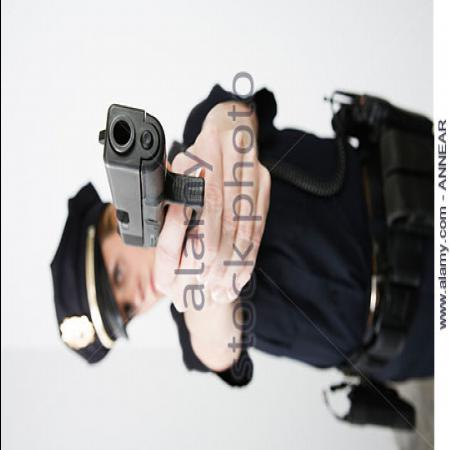Pistol: (94, 100, 205, 252)
